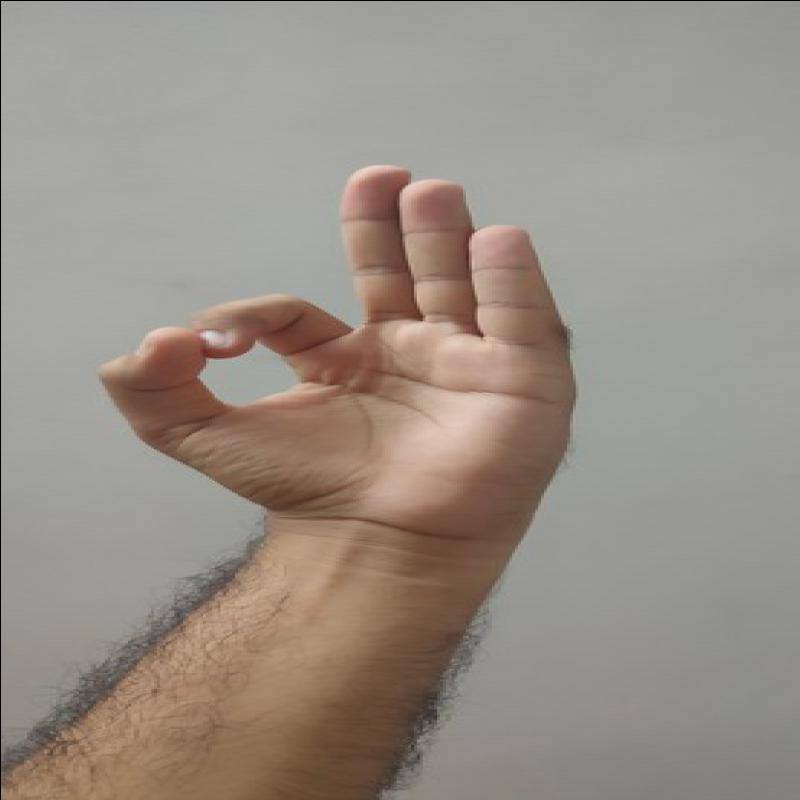Mudraakhyam: (83, 154, 592, 563)
